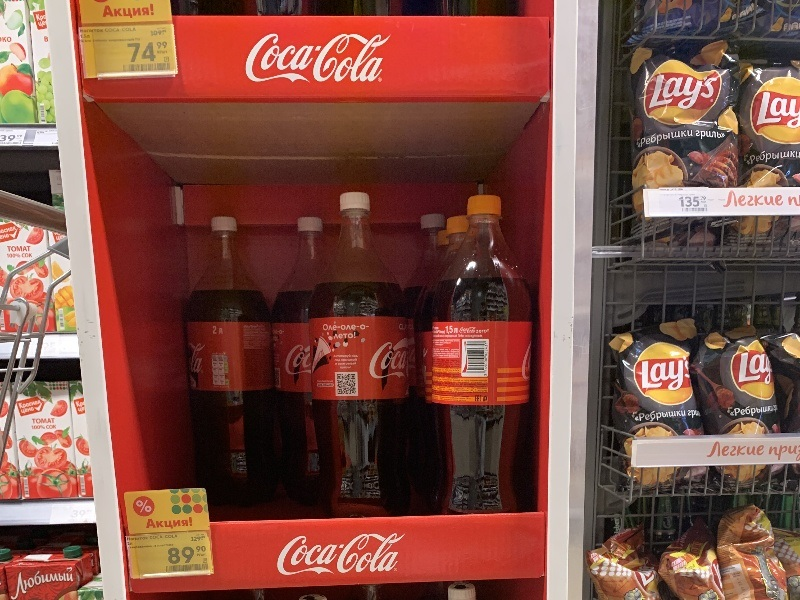lemonade: (418, 195, 543, 518), (306, 192, 420, 518), (165, 214, 282, 524)
